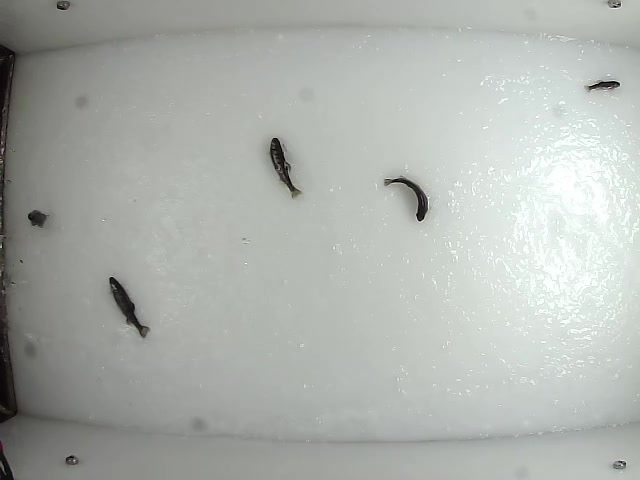fish: (106, 274, 152, 340), (379, 175, 429, 224), (267, 136, 303, 201), (583, 77, 622, 96), (27, 210, 55, 232)
